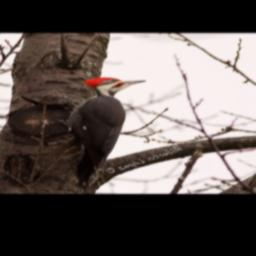Woodpecker: (62, 77, 150, 187)
